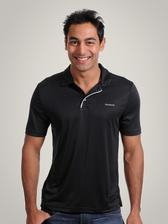clothoes: (25, 62, 140, 215)
